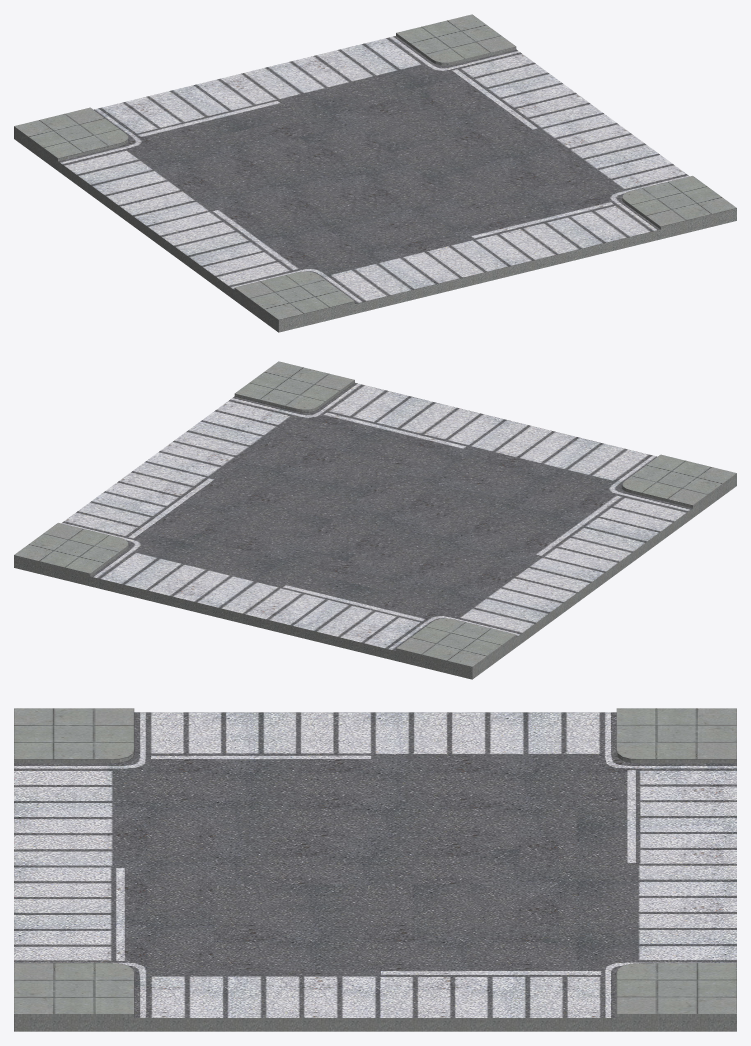
The model's file is route_4voies.fbx.
The picture shows the model from 3 angles, top to bottom: view 1: azimuth 30°, elevation 25°; view 2: azimuth 150°, elevation 25°; view 3: azimuth 270°, elevation 25°; orthographic projection. The views are drawn at different scales.
Visible parts, largest first — view 1: Plane; view 2: Plane; view 3: Plane.
Boxes of the visible parts, x1,y1,x2,y2 form: Plane: [14, 14, 736, 332]; Plane: [14, 361, 736, 679]; Plane: [14, 708, 736, 1031].
Bounding box in the file's own units: 1200 × 32.09 × 1200.
